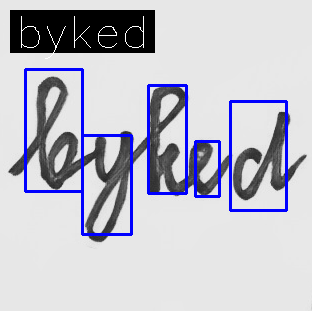b: (32, 75, 82, 192)
d: (230, 109, 293, 203)
e: (186, 138, 224, 198)
k: (144, 83, 188, 199)
y: (84, 129, 137, 245)
